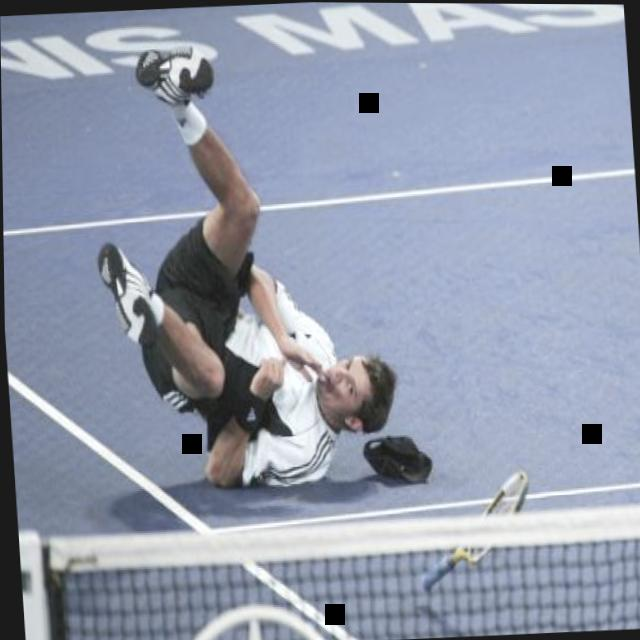Fall-Detected: (73, 11, 425, 504)
